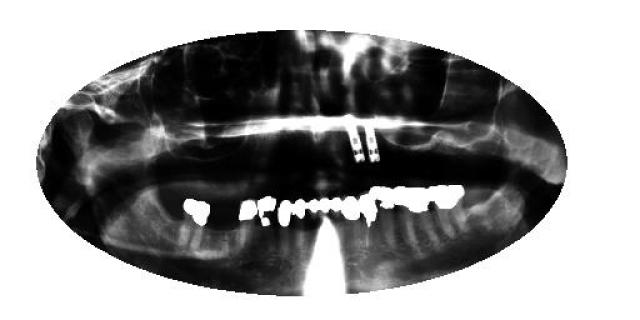Fillings: (395, 185, 439, 246), (430, 184, 471, 240), (178, 194, 212, 260), (372, 186, 397, 242), (258, 194, 278, 250), (236, 200, 256, 250), (292, 194, 306, 256), (278, 194, 292, 252), (342, 195, 362, 223), (306, 196, 319, 222), (319, 194, 331, 215), (332, 195, 342, 220)
Implant: (344, 119, 366, 168), (360, 192, 378, 248), (365, 117, 383, 165)
